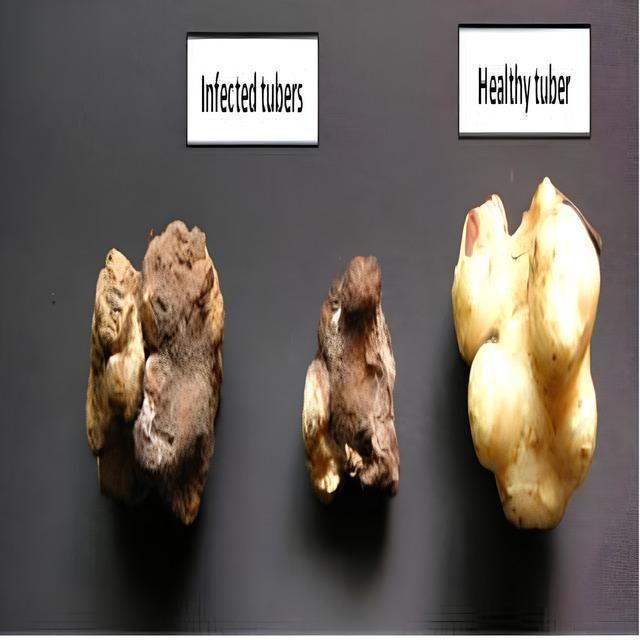ginger: (464, 188, 594, 527), (90, 245, 218, 507), (306, 256, 411, 498)
